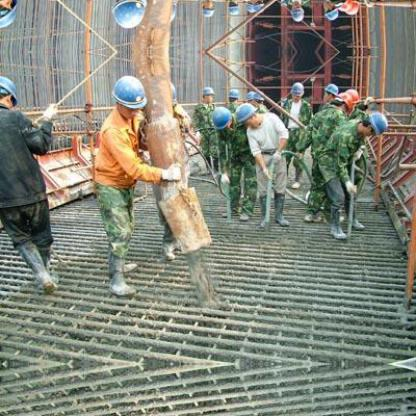helmet: (110, 73, 146, 115), (110, 0, 147, 30), (0, 72, 21, 118), (235, 101, 263, 131), (362, 110, 389, 140), (0, 0, 21, 31), (210, 105, 232, 133), (332, 90, 353, 112), (289, 79, 304, 101), (289, 1, 304, 23), (323, 81, 338, 101), (323, 1, 338, 21), (331, 0, 353, 13), (345, 86, 359, 106), (345, 0, 360, 17), (198, 84, 212, 102), (198, 0, 212, 18), (226, 87, 237, 106), (225, 0, 237, 16)
